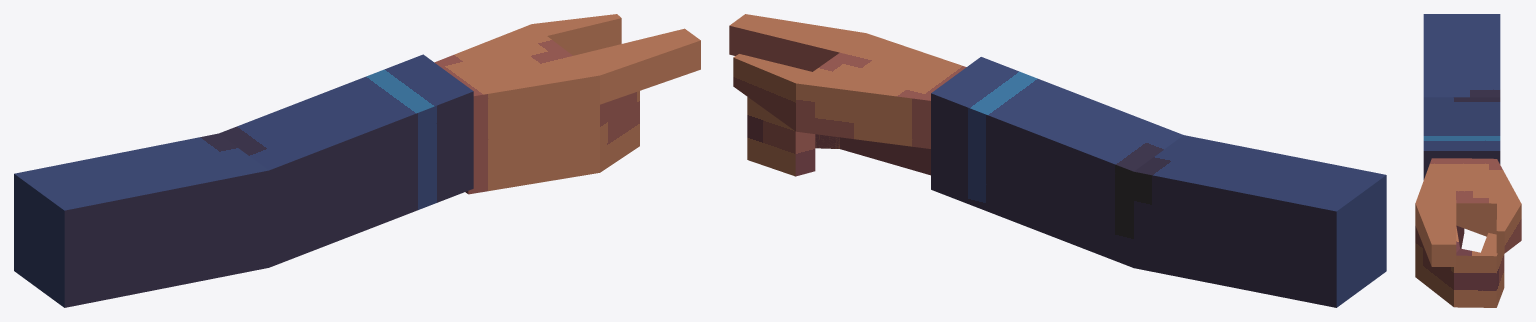
File: arm.gltf
3 renders of one model, left to right at view 1: azimuth 30°, elevation 25°; view 2: azimuth 150°, elevation 25°; view 3: azimuth 270°, elevation 25°, orthographic. The views are drawn at different scales.
Visible parts, largest first — view 1: mesh (×2); view 2: mesh (×2); view 3: mesh (×2).
Boxes of the visible parts, x1=… form: mesh (×2): x1=14, y1=14, x2=700, y2=307; mesh (×2): x1=729, y1=14, x2=1386, y2=307; mesh (×2): x1=1415, y1=14, x2=1521, y2=307.
Size of the model in its own units: 1.08 by 0.2031 by 0.203.
2 materials, 2 textured.
